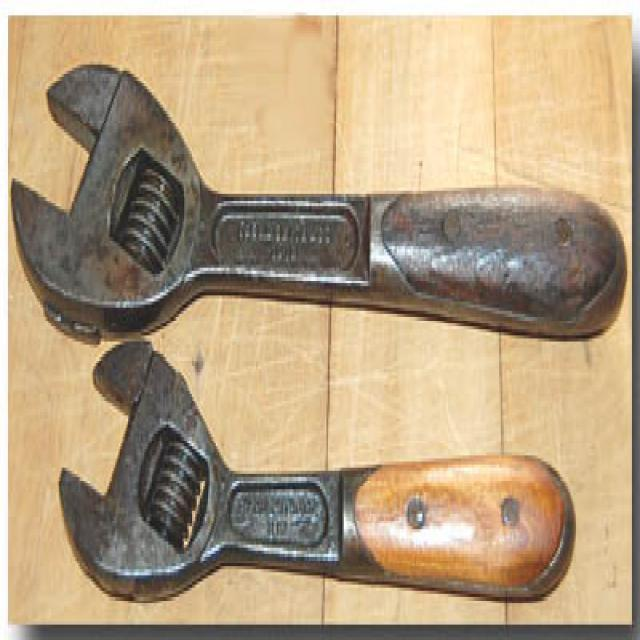wrench: (10, 60, 630, 344), (56, 336, 580, 608)
